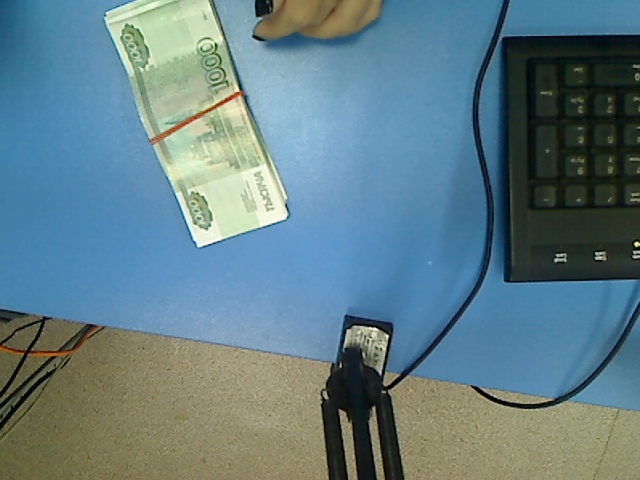banknotes: (100, 1, 291, 252)
